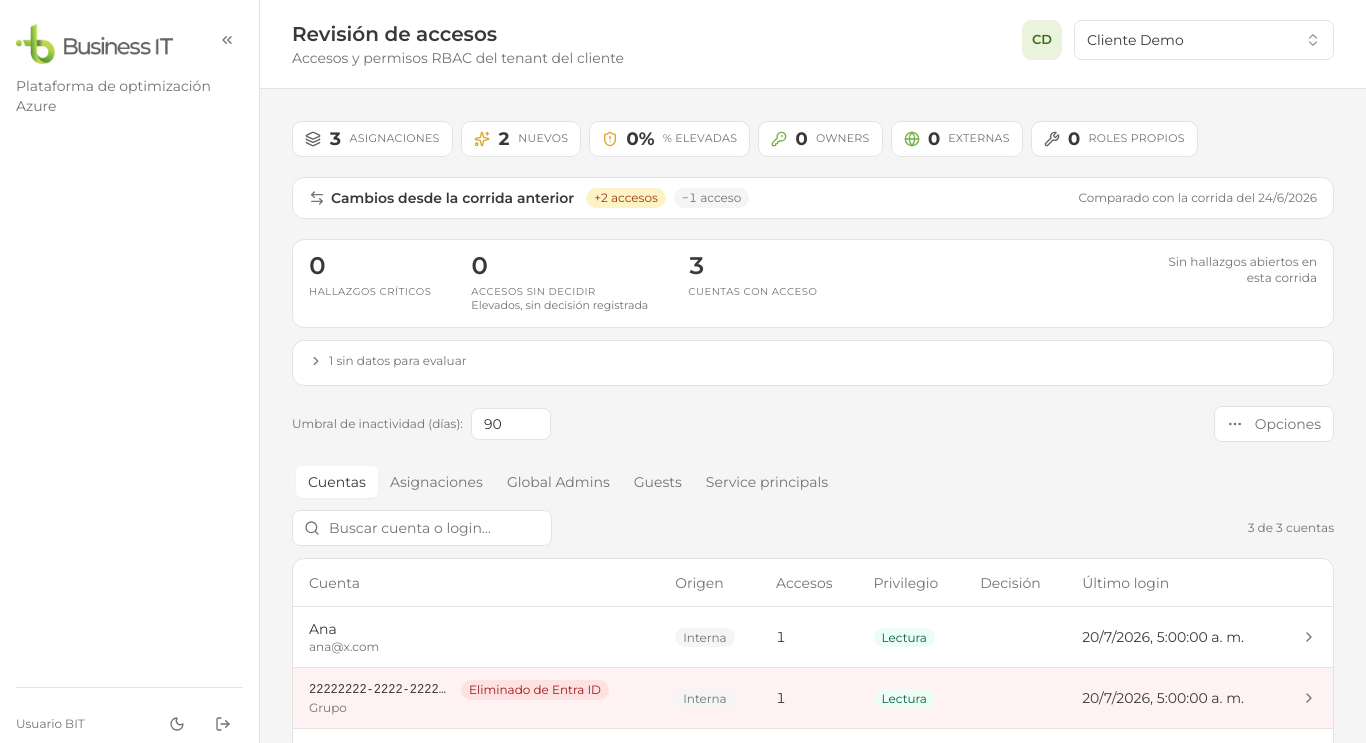
un hallazgo no evaluable no ofrece drill-down y explica por qué
The width and height of the screenshot is (1366, 743).
Va al grupo colapsado, así que primero hay que abrirlo.
Step 1. Click the button "1 sin datos para evaluar" → (388,361), box 309,353 -> 467,369
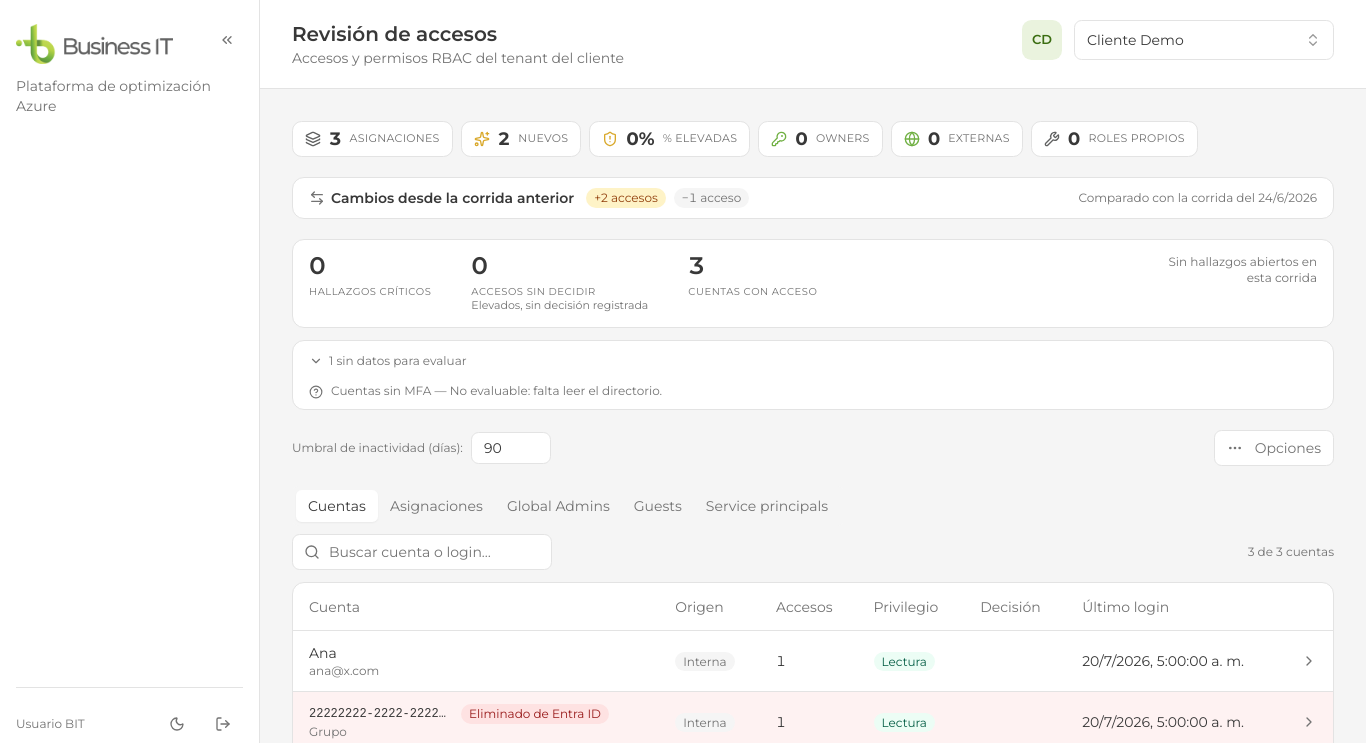
Expected: the text "Cuentas sin MFA — No evaluable: falta leer el directorio." is shown, 331,383 -> 662,399
